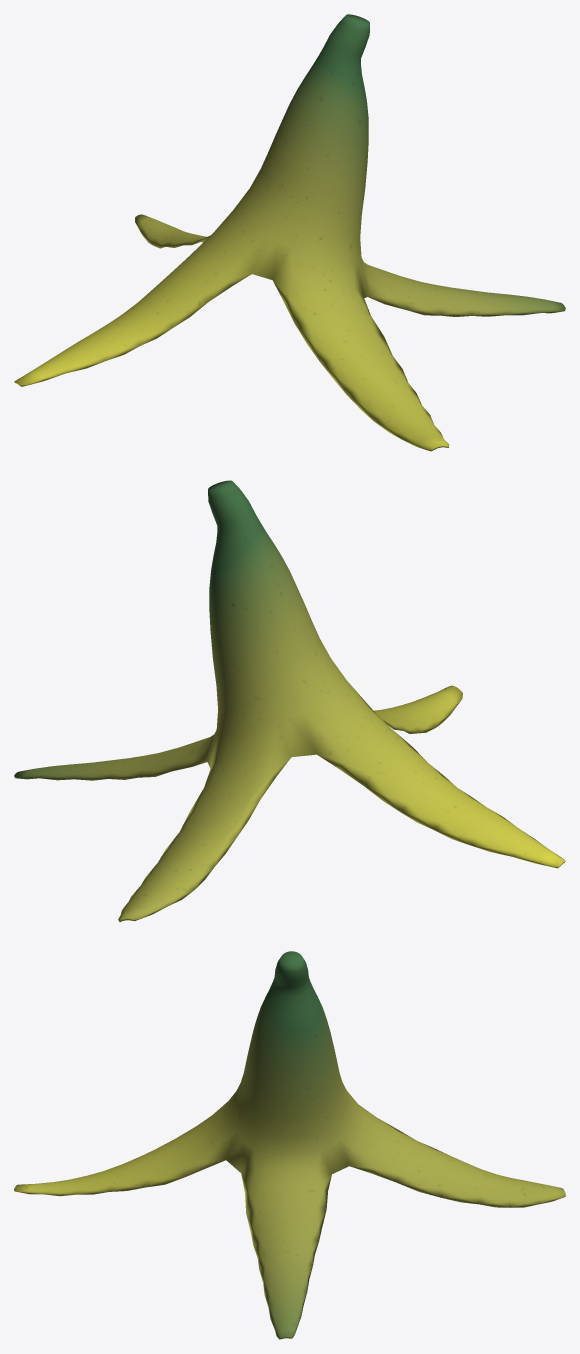
Rendered from Banana peel_Unity.fbx.
The picture shows the model from 3 angles, top to bottom: view 1: azimuth 30°, elevation 25°; view 2: azimuth 150°, elevation 25°; view 3: azimuth 270°, elevation 25°; orthographic projection. The views are drawn at different scales.
Visible parts, largest first — view 1: 円; view 2: 円; view 3: 円.
Boxes of the visible parts, x1,y1,x2,y2 form: 円: (14,14,565,451); 円: (14,480,565,922); 円: (14,951,565,1339).
Size of the model in its own units: 48.22 by 29.01 by 48.64.
1 material, 1 textured.
